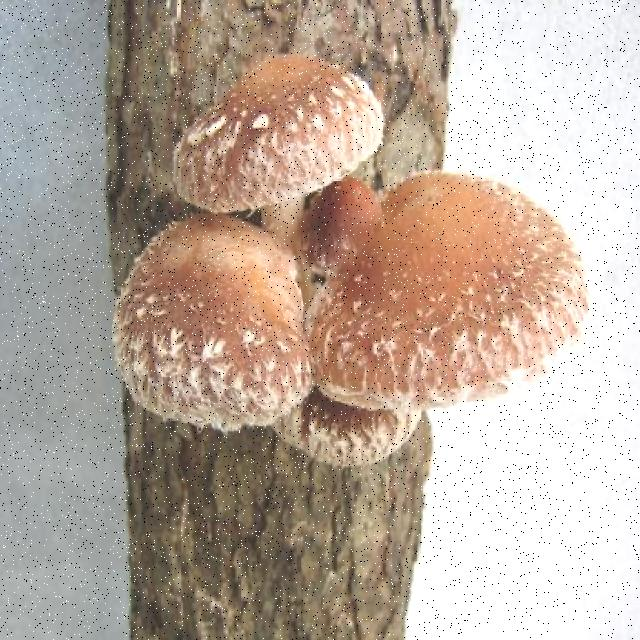Mushroom: (156, 32, 395, 262), (100, 212, 328, 451)
